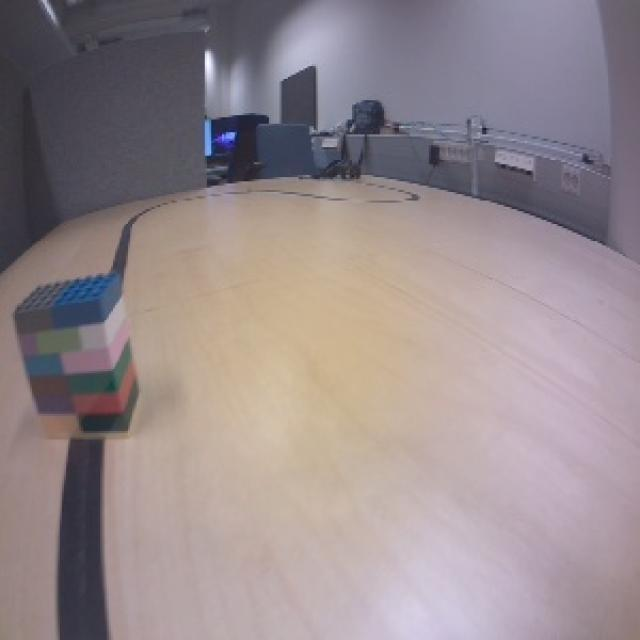obstacle: (7, 267, 145, 442)
